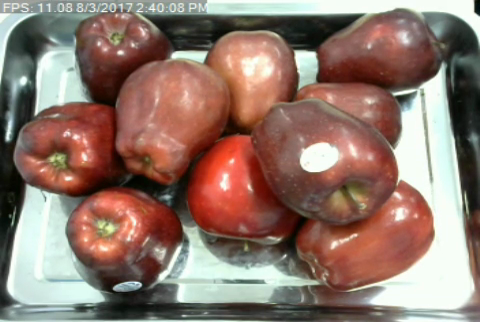Apple: (247, 95, 402, 228), (292, 176, 437, 293), (110, 54, 233, 187), (185, 128, 304, 247), (62, 185, 188, 297), (313, 4, 445, 97), (12, 99, 135, 197), (201, 26, 300, 136), (71, 7, 175, 105)
